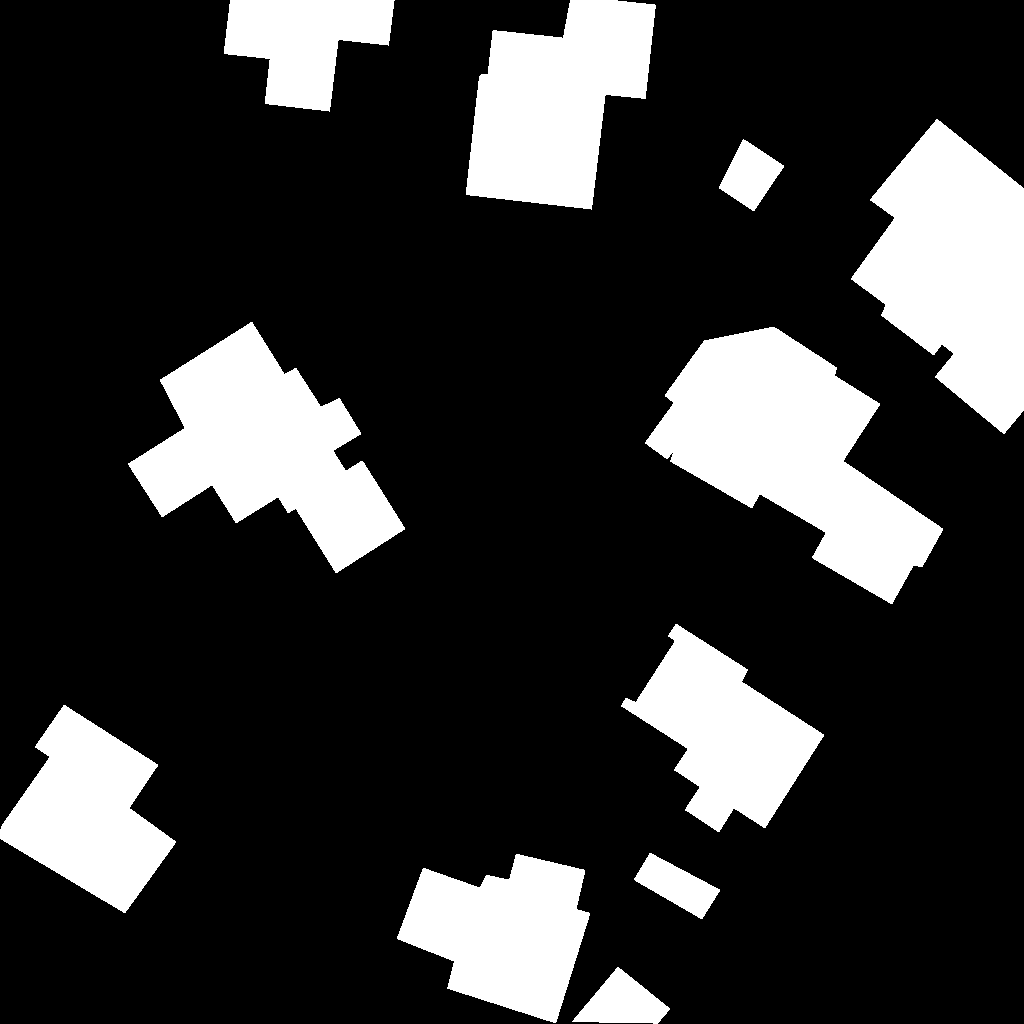building: (645, 327, 944, 605), (128, 322, 406, 574), (851, 119, 1024, 435), (621, 624, 825, 833), (466, 0, 657, 210), (0, 705, 177, 914), (397, 854, 591, 1024), (224, 0, 395, 112), (634, 853, 721, 920), (572, 967, 671, 1024), (719, 139, 785, 212)
